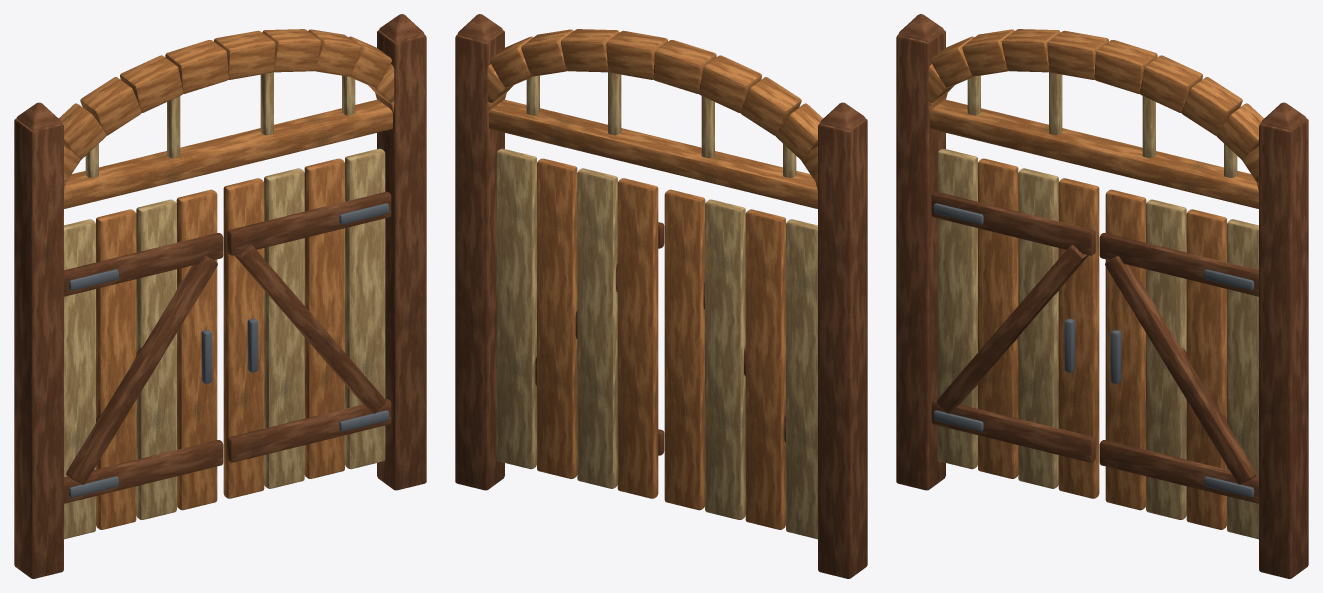
Rendered from puerta_jardin.gltf.
3 views of the same model, side by side, from view 1: azimuth 30°, elevation 25°; view 2: azimuth 150°, elevation 25°; view 3: azimuth 330°, elevation 25° (orthographic).
Parts seen in each view (by area): view 1: puerta_jardin, hoja_der, hoja_izq; view 2: puerta_jardin, hoja_der, hoja_izq; view 3: puerta_jardin, hoja_izq, hoja_der.
Boxes of the visible parts, <box> form: puerta_jardin: <box>14,14,426,578</box>; hoja_der: <box>223,148,391,498</box>; hoja_izq: <box>64,189,223,539</box>; puerta_jardin: <box>455,14,867,578</box>; hoja_der: <box>496,148,664,498</box>; hoja_izq: <box>664,189,817,539</box>; puerta_jardin: <box>896,14,1308,578</box>; hoja_izq: <box>931,148,1099,498</box>; hoja_der: <box>1099,189,1258,539</box>.
Size of the model in its own units: 2.4 by 2.79 by 0.225.
Materials: 4 (4 with a texture image).
